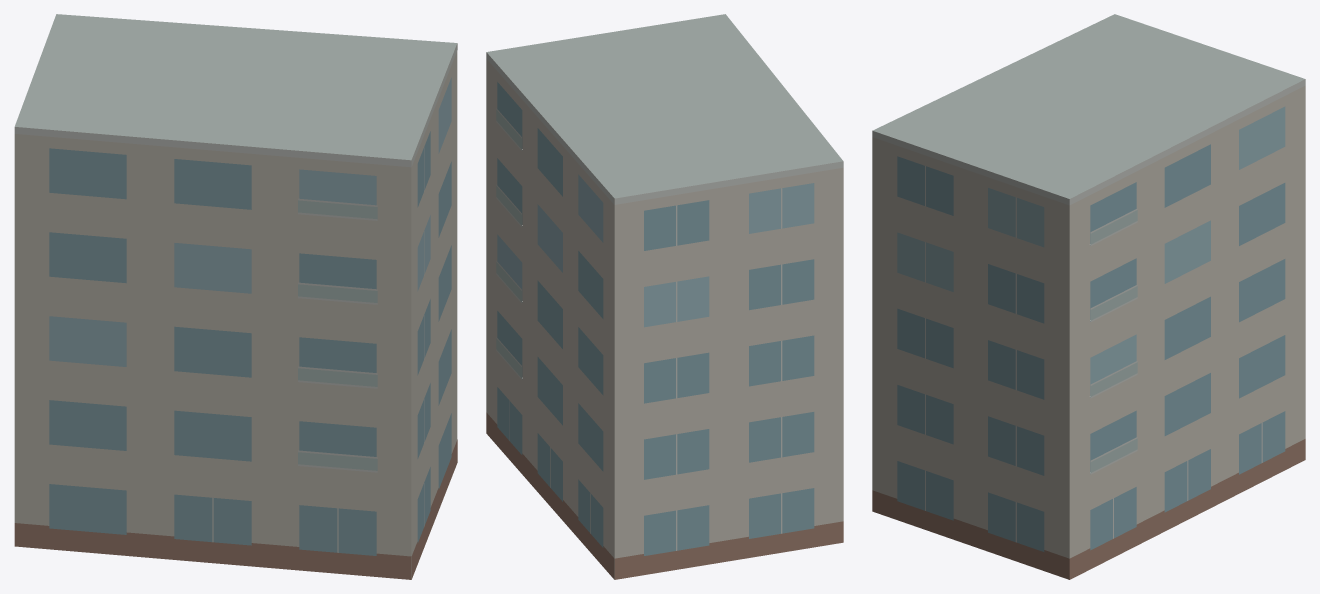
File: survey-upis-32693094.glb
3 views of the same model, side by side, from view 1: azimuth 30°, elevation 25°; view 2: azimuth 150°, elevation 25°; view 3: azimuth 270°, elevation 25° (orthographic). The views are drawn at different scales.
Visible parts, largest first — view 1: survey-upis-32693094.tmp; view 2: survey-upis-32693094.tmp; view 3: survey-upis-32693094.tmp.
Boxes of the visible parts, x1,y1,x2,y2 form: survey-upis-32693094.tmp: [14, 14, 457, 579]; survey-upis-32693094.tmp: [486, 14, 843, 579]; survey-upis-32693094.tmp: [872, 14, 1305, 579].
Size of the model in its own units: 15.19 by 14.56 by 15.02.
